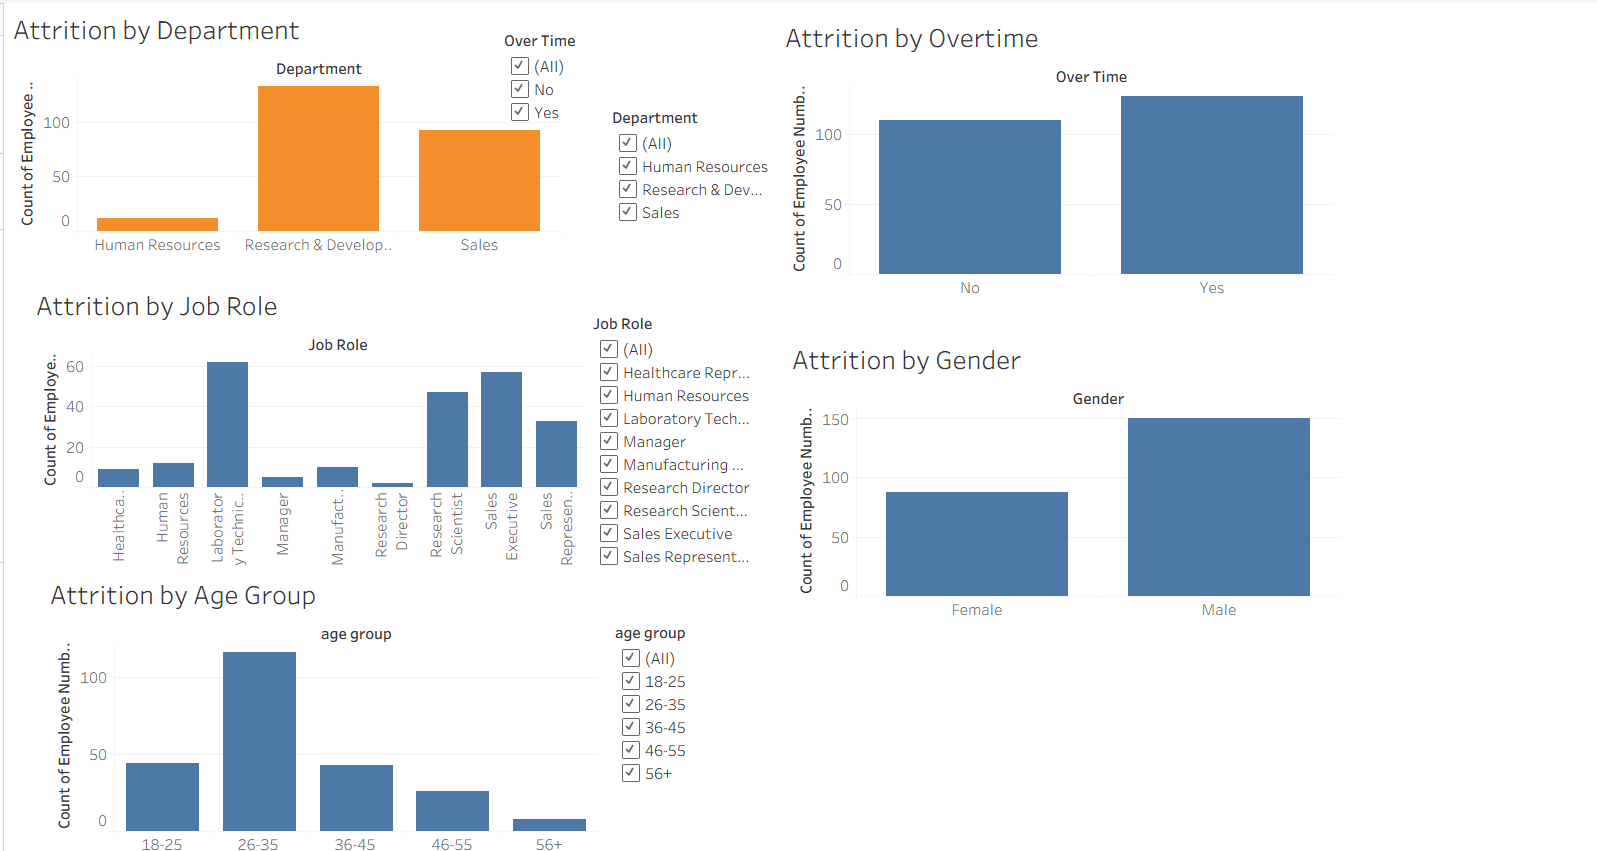

The page's visual inventory and layout, read from the dashboard file:
{"tool":"tableau","page":{"name":"HR Attrition Analysis Dashboard","canvas":[1000,1000],"units":"permille","ordinal":2},"visuals":[{"type":"worksheet","title":"Attrition by Department","mark":"Automatic","rows":["EmployeeNumber"],"cols":["Department"],"box":[3,5.9,333.1,332.6]},{"type":"worksheet","title":"Attrition by Overtime","mark":"Automatic","rows":["EmployeeNumber"],"cols":["OverTime"],"box":[468.9,15.3,333.1,332.6]},{"type":"filter","title":"Attrition by Overtime","param":"[federated.0xlwcxr136951t1fcvgdu1p4bksx].[none:OverTime:nk]","box":[301.8,31.7,96.6,114]},{"type":"filter","title":"Attrition by Department","param":"[federated.0xlwcxr136951t1fcvgdu1p4bksx].[none:Department:nk]","box":[366.9,122.2,96.6,141]},{"type":"worksheet","title":"Attrition by Job Role","mark":"Automatic","rows":["EmployeeNumber"],"cols":["JobRole"],"box":[16.3,364.3,333.1,332.6]},{"type":"filter","title":"Attrition by Job Role","param":"[federated.0xlwcxr136951t1fcvgdu1p4bksx].[none:JobRole:nk]","box":[355.5,364.3,96.6,303.2]},{"type":"worksheet","title":"Attrition by Gender","mark":"Automatic","rows":["EmployeeNumber"],"cols":["Gender"],"box":[473.1,393.7,333.1,332.6]},{"type":"filter","title":"Attrition by Age Group","param":"[federated.0xlwcxr136951t1fcvgdu1p4bksx].[none:Calculation_1113817116577793:nk]","box":[368.7,727.4,96.6,195.1]}]}

Visuals, with their boxes on the dashboard's canvas, which has no fixed pixel size, in thousandths of its width and height (x1, y1, x2, y2). These are canvas units, not pixel positions in the 1597x851 screenshot, which may show the page scaled, cropped or inside an application window:
"Attrition by Department" worksheet: x1=3 y1=6 x2=336 y2=338
"Attrition by Overtime" worksheet: x1=469 y1=15 x2=802 y2=348
"Attrition by Overtime" filter: x1=302 y1=32 x2=398 y2=146
"Attrition by Department" filter: x1=367 y1=122 x2=464 y2=263
"Attrition by Job Role" worksheet: x1=16 y1=364 x2=349 y2=697
"Attrition by Job Role" filter: x1=356 y1=364 x2=452 y2=668
"Attrition by Gender" worksheet: x1=473 y1=394 x2=806 y2=726
"Attrition by Age Group" filter: x1=369 y1=727 x2=465 y2=922
